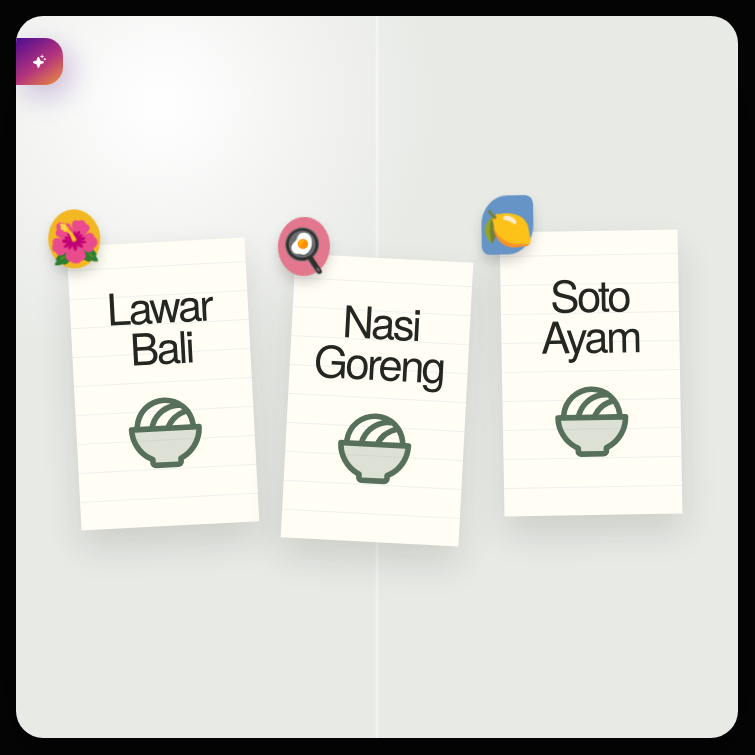
Test: GrandkidsPage › starts the recipe and shows the first spoken step
Click the button with aria-label "open lawar bali": [163, 384] box [66,238,259,531]
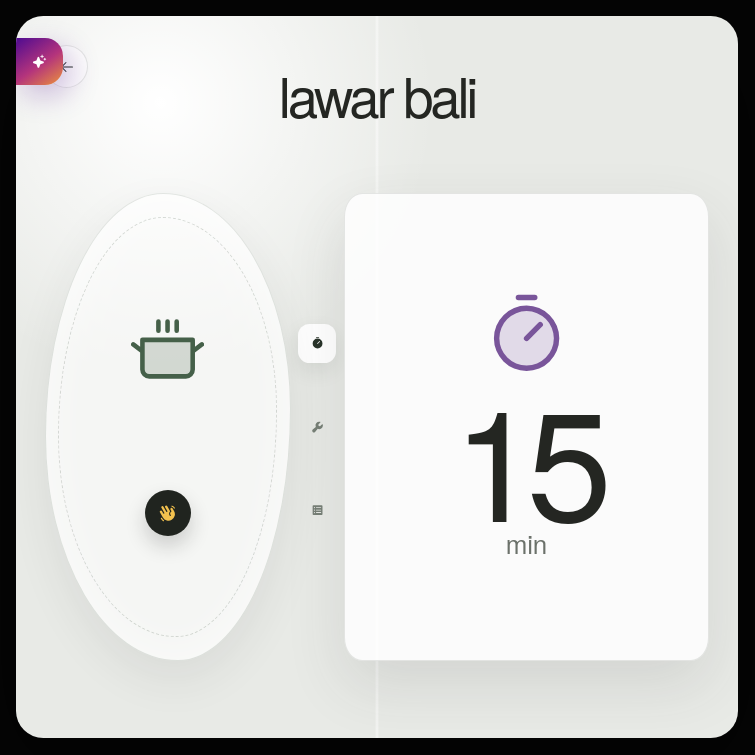
Click the button named "wave or tap to start": [168, 513] box [145,490,191,536]
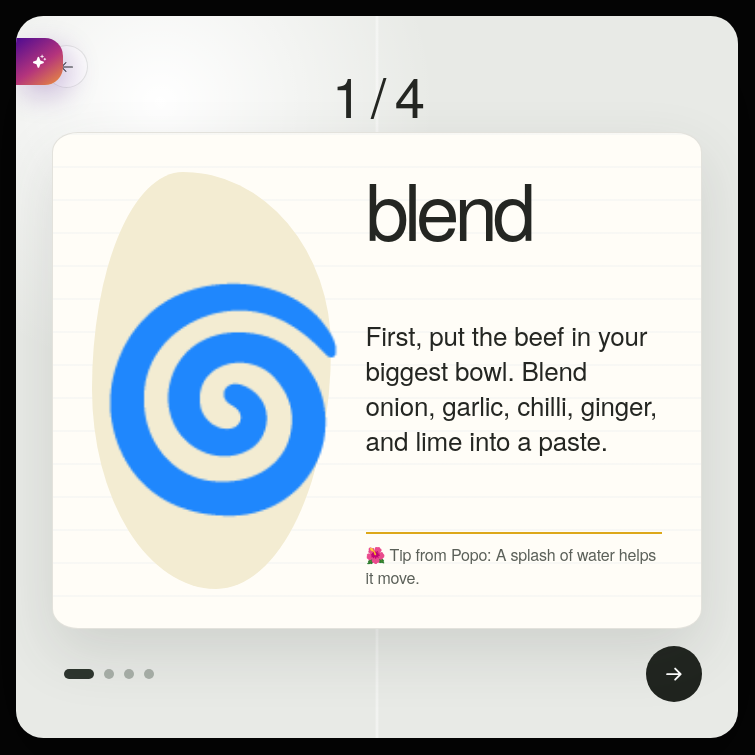
Now the text "First, put the beef in your biggest bowl" is shown, box [366,316,657,458]
Now the element named "cooking walkthrough" is shown
Now the heading "Blend" is shown, box [366,150,531,262]
